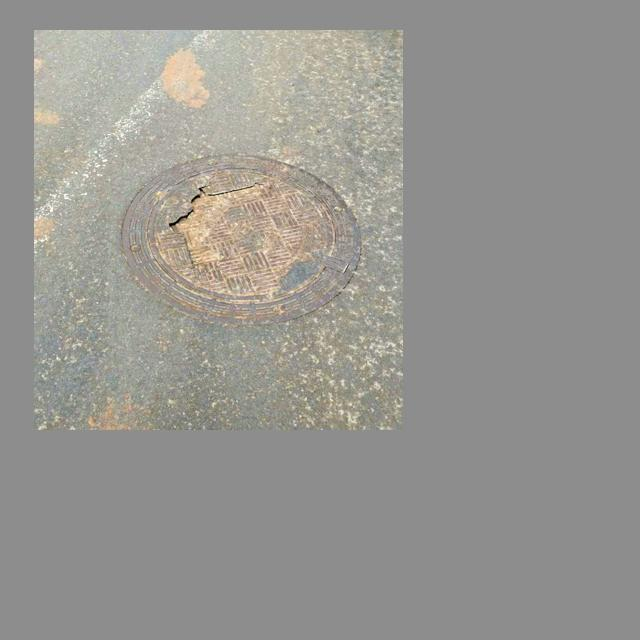broke: (125, 146, 359, 319)
